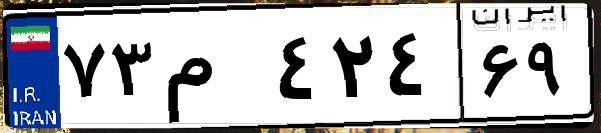2: (330, 28, 385, 110)
3: (110, 28, 158, 98)
4: (270, 28, 330, 110), (385, 28, 445, 110)
6: (475, 38, 525, 113)
7: (57, 26, 110, 100)
9: (525, 38, 570, 115)
م: (158, 20, 270, 120)
